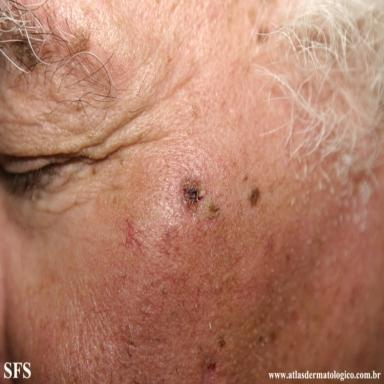basal-cell-carcinoma: (180, 175, 205, 209)
